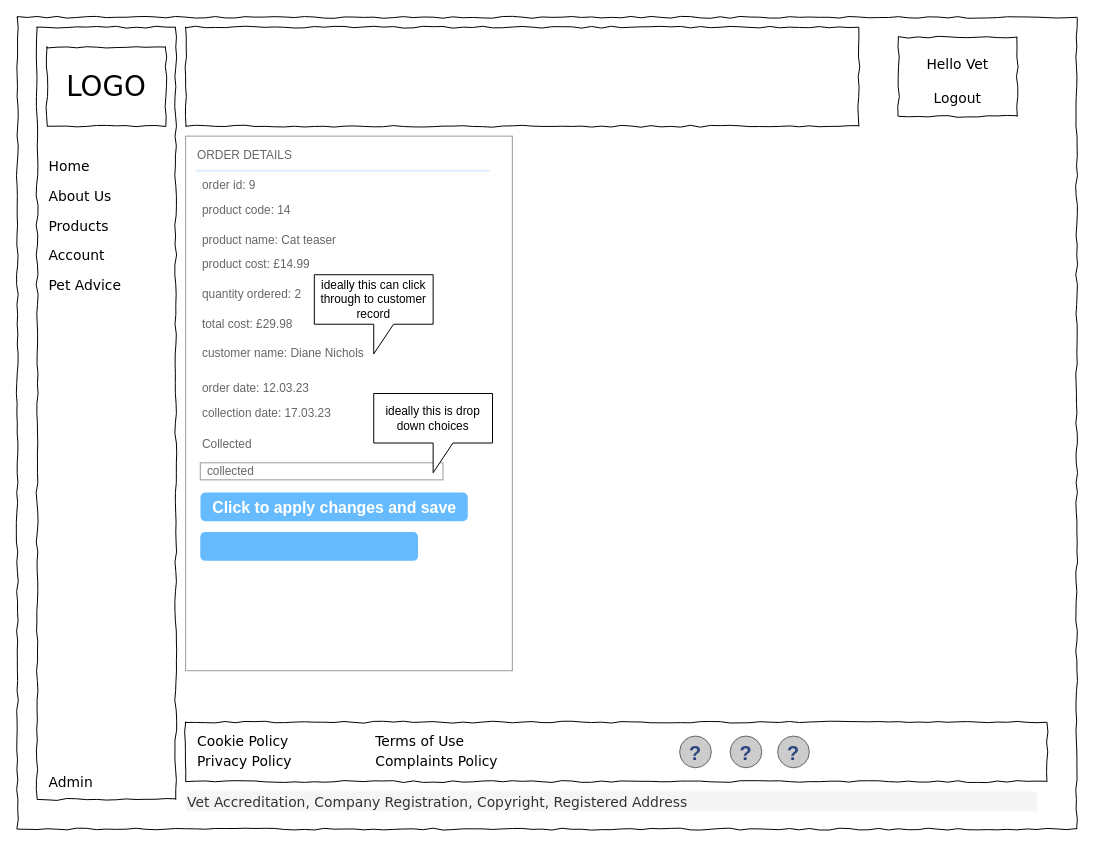
This 1094x846 diagram has some shape labels left out. The shapes that lost their labels are listed below. From the top down, each one's centre as x and y in pixels, then its label:
the point at 522,76: Vet Clinic Name
the point at 309,546: Click here to cancel order
